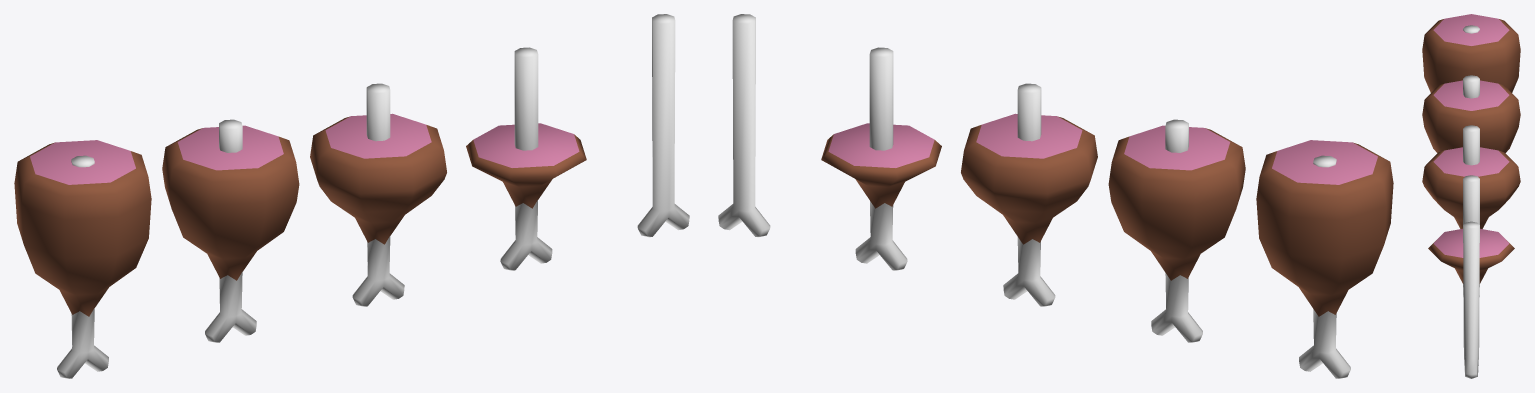
The model's file is MEAT.fbx.
3 renders of one model, left to right at view 1: azimuth 30°, elevation 25°; view 2: azimuth 150°, elevation 25°; view 3: azimuth 270°, elevation 25°, orthographic. The views are drawn at different scales.
Parts seen in each view (by area): view 1: MEAT_State_1, MEAT_State_2, MEAT_State_3, MEAT_State_4, MEAT_State_5; view 2: MEAT_State_1, MEAT_State_2, MEAT_State_3, MEAT_State_4, MEAT_State_5; view 3: MEAT_State_1, MEAT_State_2, MEAT_State_3, MEAT_State_4, MEAT_State_5.
Part boxes in pixels (bbox=[...]): MEAT_State_1: bbox=[14, 140, 151, 378]; MEAT_State_2: bbox=[162, 119, 299, 342]; MEAT_State_3: bbox=[310, 83, 446, 306]; MEAT_State_4: bbox=[466, 47, 586, 270]; MEAT_State_5: bbox=[637, 14, 689, 237]; MEAT_State_1: bbox=[1256, 140, 1393, 378]; MEAT_State_2: bbox=[1108, 119, 1245, 342]; MEAT_State_3: bbox=[961, 83, 1097, 306]; MEAT_State_4: bbox=[821, 47, 941, 270]; MEAT_State_5: bbox=[718, 14, 770, 237]; MEAT_State_1: bbox=[1422, 14, 1520, 92]; MEAT_State_2: bbox=[1422, 75, 1520, 152]; MEAT_State_3: bbox=[1422, 125, 1520, 228]; MEAT_State_4: bbox=[1428, 175, 1514, 296]; MEAT_State_5: bbox=[1463, 221, 1479, 378].
Size of the model in its own units: 6.33 by 1.94 by 1.17.
